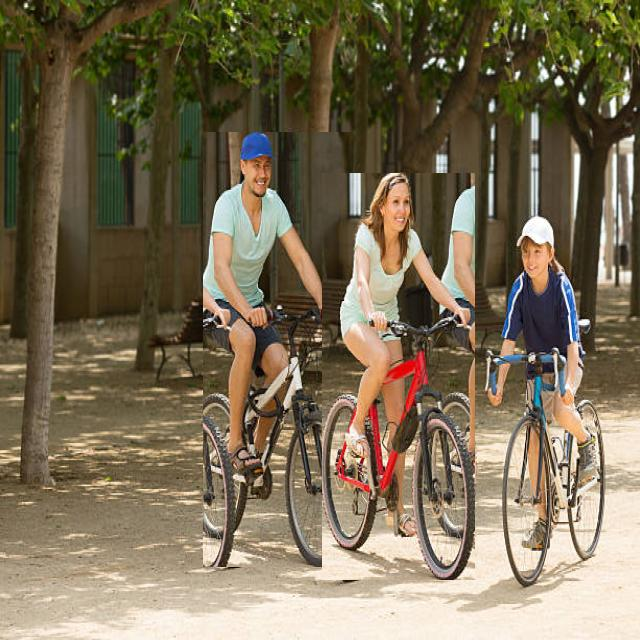bicycle: (204, 133, 353, 567), (322, 173, 475, 580), (486, 217, 605, 585)
